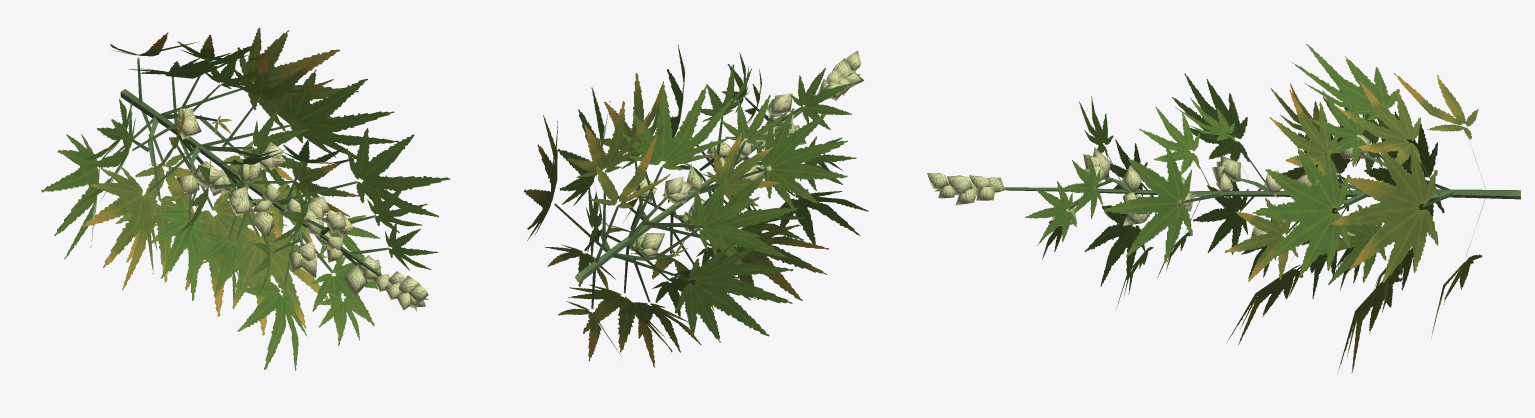
File: p_male_landrace_ripe_c0_cards.obj
The picture shows the model from 3 angles, left to right: view 1: azimuth 30°, elevation 25°; view 2: azimuth 150°, elevation 25°; view 3: azimuth 270°, elevation 25°; orthographic projection. The views are drawn at different scales.
Size of the model in its own units: 1.61 by 1.41 by 2.28.
1 material, 1 textured.
